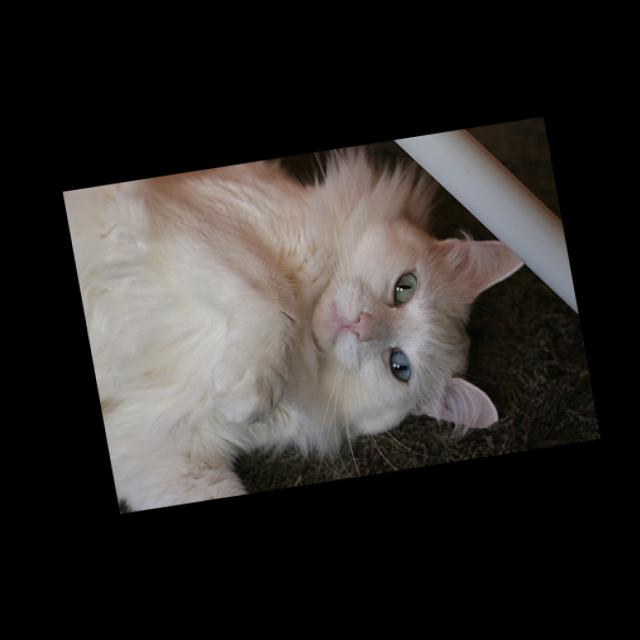animals: (334, 222, 549, 442)
